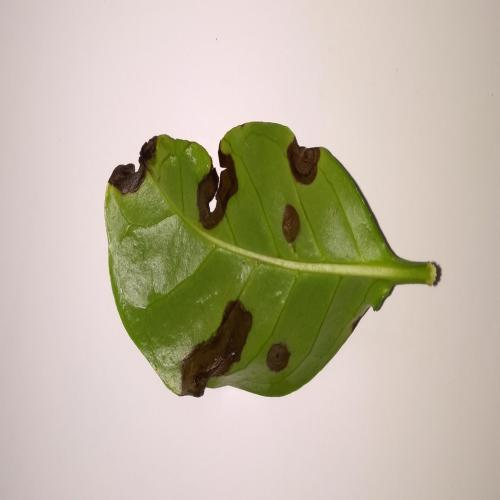miner: (109, 135, 159, 193)
